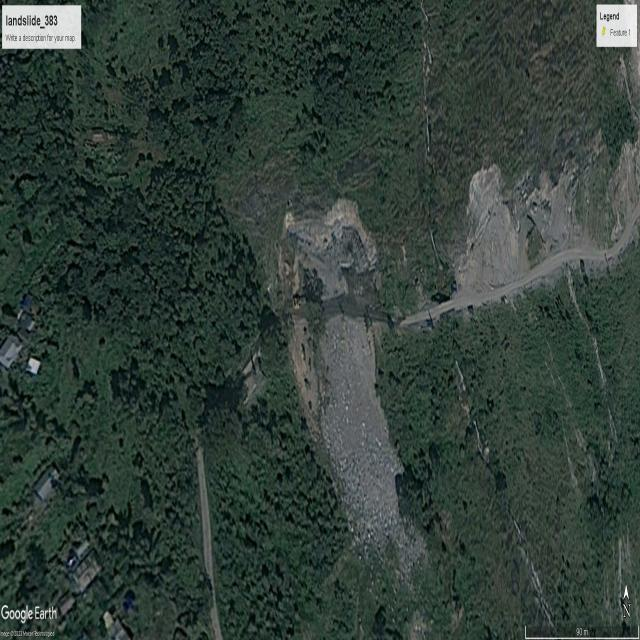Landslide: (318, 327, 419, 572), (465, 155, 521, 280)
